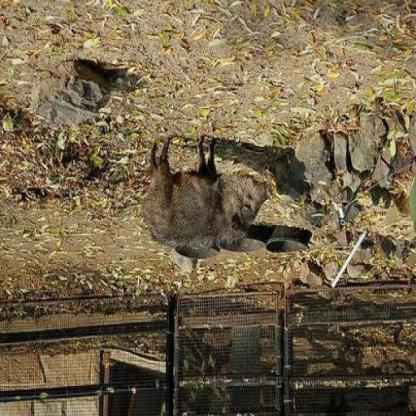boar: (117, 124, 279, 275)
